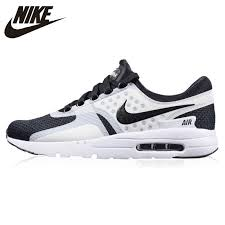nike: (115, 99, 193, 125)
